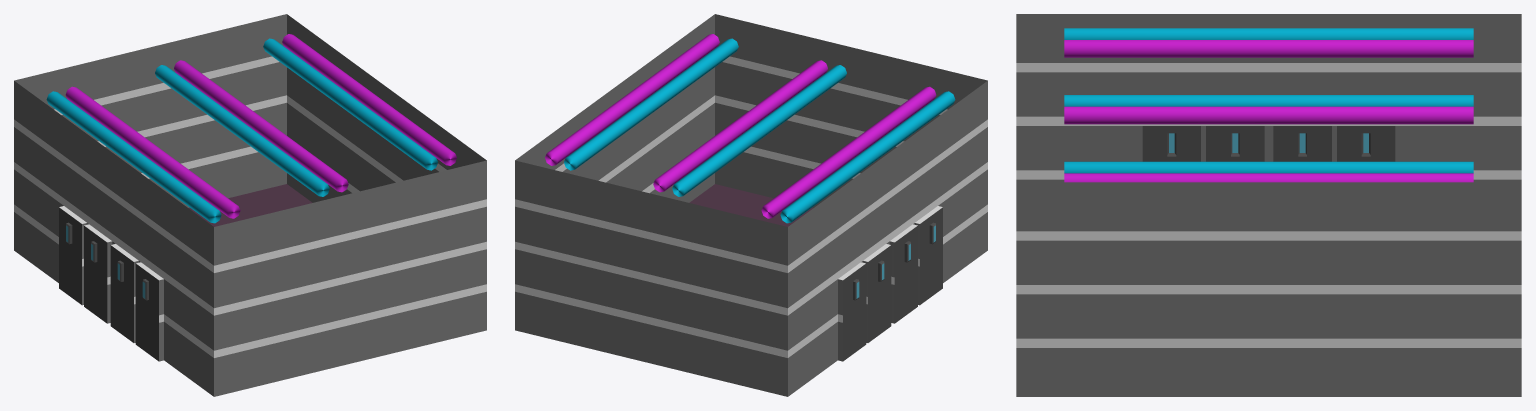
File: ArcadeRoom.fbx
The picture shows the model from 3 angles, left to right: view 1: azimuth 30°, elevation 25°; view 2: azimuth 150°, elevation 25°; view 3: azimuth 270°, elevation 25°; orthographic projection. The views are drawn at different scales.
Visible parts, largest first — view 1: Walls, Light001, Light005, Light003, Light006, Light004, Light002; view 2: Walls, Light001, Light005, Light003, Light006, Light004, Light002; view 3: Walls, Light004, Light002, Light005, Light003, Light001, Light006.
Part boxes in pixels (x1=…): Walls: x1=14, y1=14, x2=486, y2=396; Light001: x1=46, y1=91, x2=221, y2=223; Light005: x1=263, y1=38, x2=437, y2=170; Light003: x1=155, y1=65, x2=329, y2=196; Light006: x1=282, y1=34, x2=456, y2=165; Light004: x1=174, y1=60, x2=348, y2=192; Light002: x1=65, y1=86, x2=240, y2=218; Walls: x1=515, y1=14, x2=987, y2=396; Light001: x1=780, y1=91, x2=955, y2=223; Light005: x1=564, y1=38, x2=738, y2=170; Light003: x1=672, y1=65, x2=846, y2=196; Light006: x1=545, y1=34, x2=719, y2=165; Light004: x1=653, y1=60, x2=827, y2=192; Light002: x1=761, y1=86, x2=936, y2=218; Walls: x1=1016, y1=14, x2=1521, y2=396; Light004: x1=1064, y1=106, x2=1473, y2=124; Light002: x1=1064, y1=40, x2=1473, y2=57; Light005: x1=1064, y1=161, x2=1473, y2=173; Light003: x1=1064, y1=95, x2=1473, y2=106; Light001: x1=1064, y1=28, x2=1473, y2=39; Light006: x1=1064, y1=173, x2=1473, y2=182.
Bounding box in the file's own units: 1040 × 600 × 1280.
